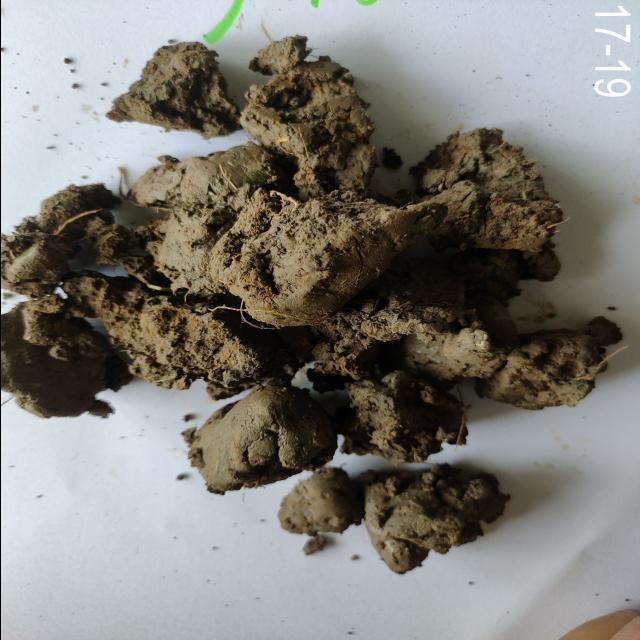soil: (62, 177, 483, 365)
